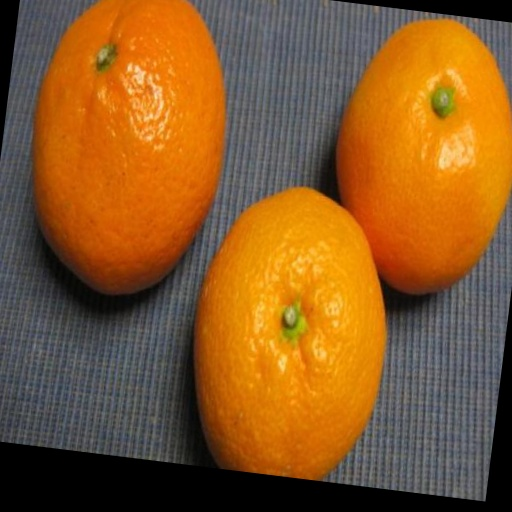fruit: (194, 188, 385, 479), (336, 20, 512, 293)
